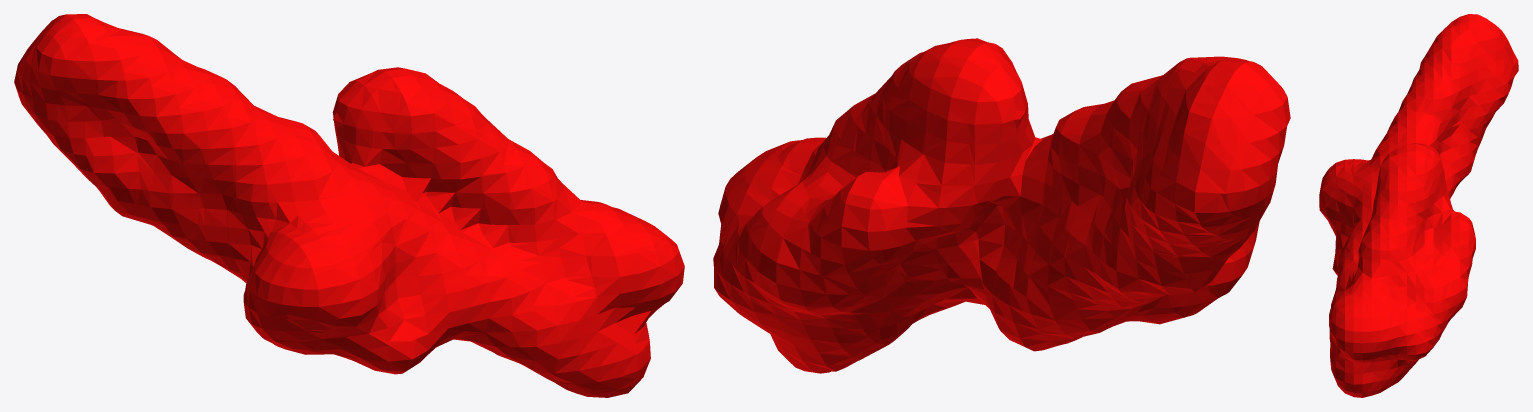
Rendered from fliH_coarse.dae.
The picture shows the model from 3 angles, left to right: view 1: azimuth 30°, elevation 25°; view 2: azimuth 150°, elevation 25°; view 3: azimuth 270°, elevation 25°; orthographic projection. The views are drawn at different scales.
Visible parts, largest first — view 1: fliH; view 2: fliH; view 3: fliH.
Part boxes in pixels (x1,y1,x2,y2): fliH: (14, 14, 684, 397); fliH: (713, 38, 1290, 373); fliH: (1319, 14, 1518, 397).
Bounding box in the file's own units: 88.26 × 63.94 × 46.07.
